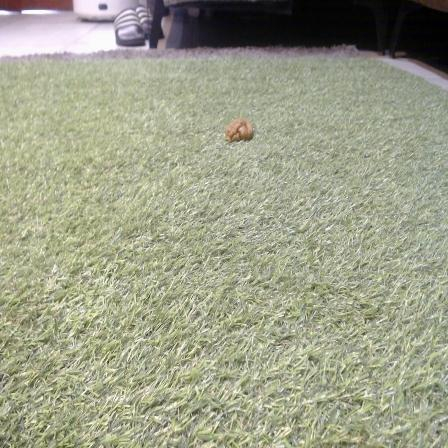dog-poop: (222, 116, 255, 146)
